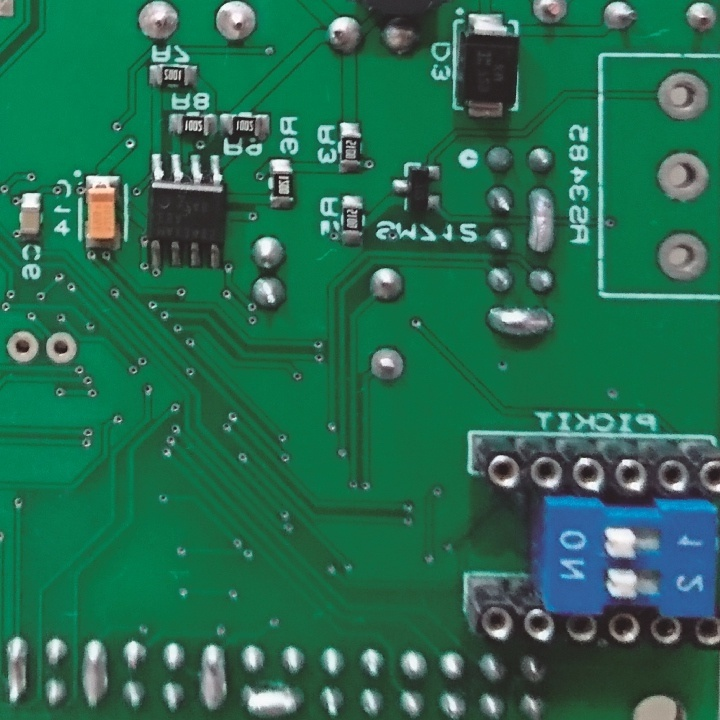F: (654, 225, 709, 289), (657, 69, 714, 127), (655, 149, 716, 201), (213, 1, 264, 45), (134, 1, 184, 44), (365, 345, 407, 385), (42, 328, 80, 369), (681, 2, 720, 40), (4, 327, 40, 368), (601, 1, 640, 35), (526, 1, 573, 28)
P: (481, 304, 561, 344), (239, 676, 302, 720), (524, 185, 559, 260), (193, 640, 228, 712), (1, 627, 33, 705), (79, 633, 110, 711)
